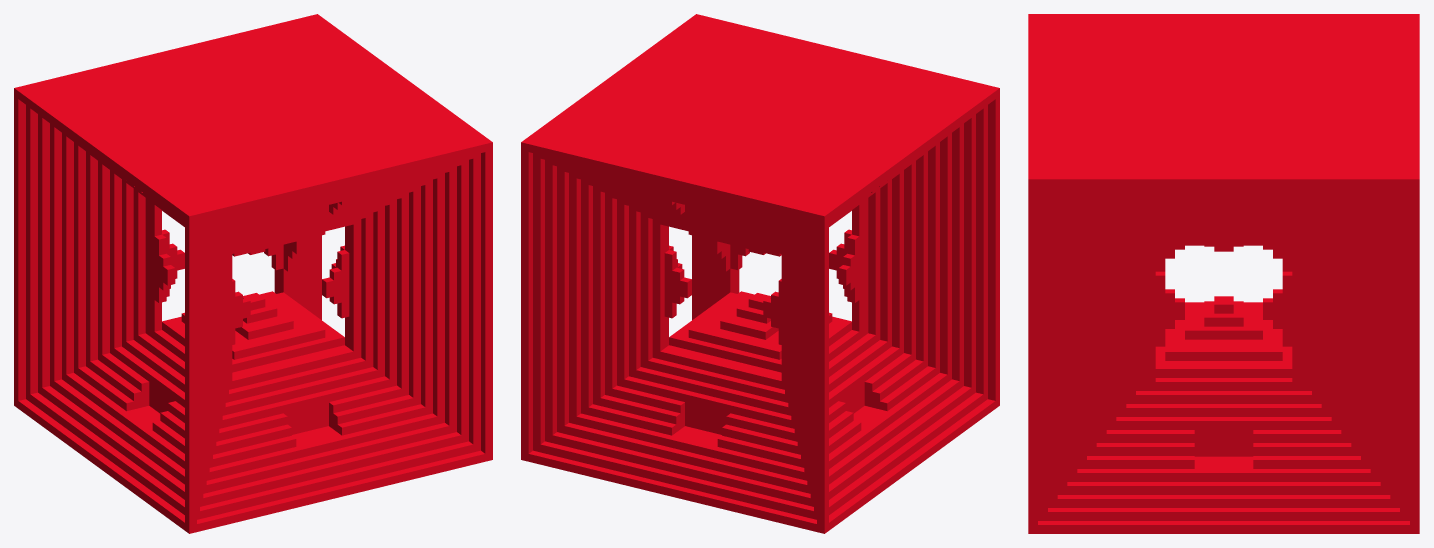
The model's file is magic_cube.obj.
3 views of the same model, side by side, from view 1: azimuth 30°, elevation 25°; view 2: azimuth 150°, elevation 25°; view 3: azimuth 270°, elevation 25° (orthographic). The views are drawn at different scales.
Parts seen in each view (by area): view 1: magic_cube; view 2: magic_cube; view 3: magic_cube.
Part boxes in pixels (x1,y1,x2,y2): magic_cube: (14, 14, 492, 533); magic_cube: (521, 14, 999, 533); magic_cube: (1028, 14, 1419, 533).
Size of the model in its own units: 40 by 40 by 40.
1 material, 1 textured.
